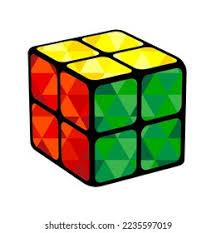cubos: (22, 24, 194, 191)
